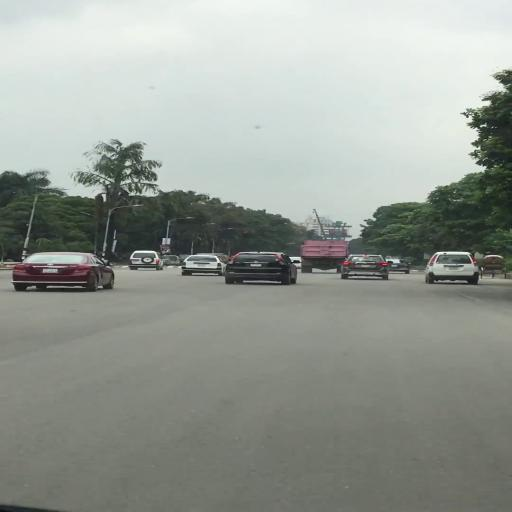car: (12, 252, 118, 293), (180, 256, 224, 278), (392, 259, 412, 275)
minivan: (425, 251, 482, 287)
rickshaw: (480, 255, 509, 281)
suv: (225, 251, 301, 287), (341, 254, 394, 282), (128, 251, 167, 273)
three wheelers (CNG): (162, 257, 181, 267)
truck: (299, 241, 343, 275)
